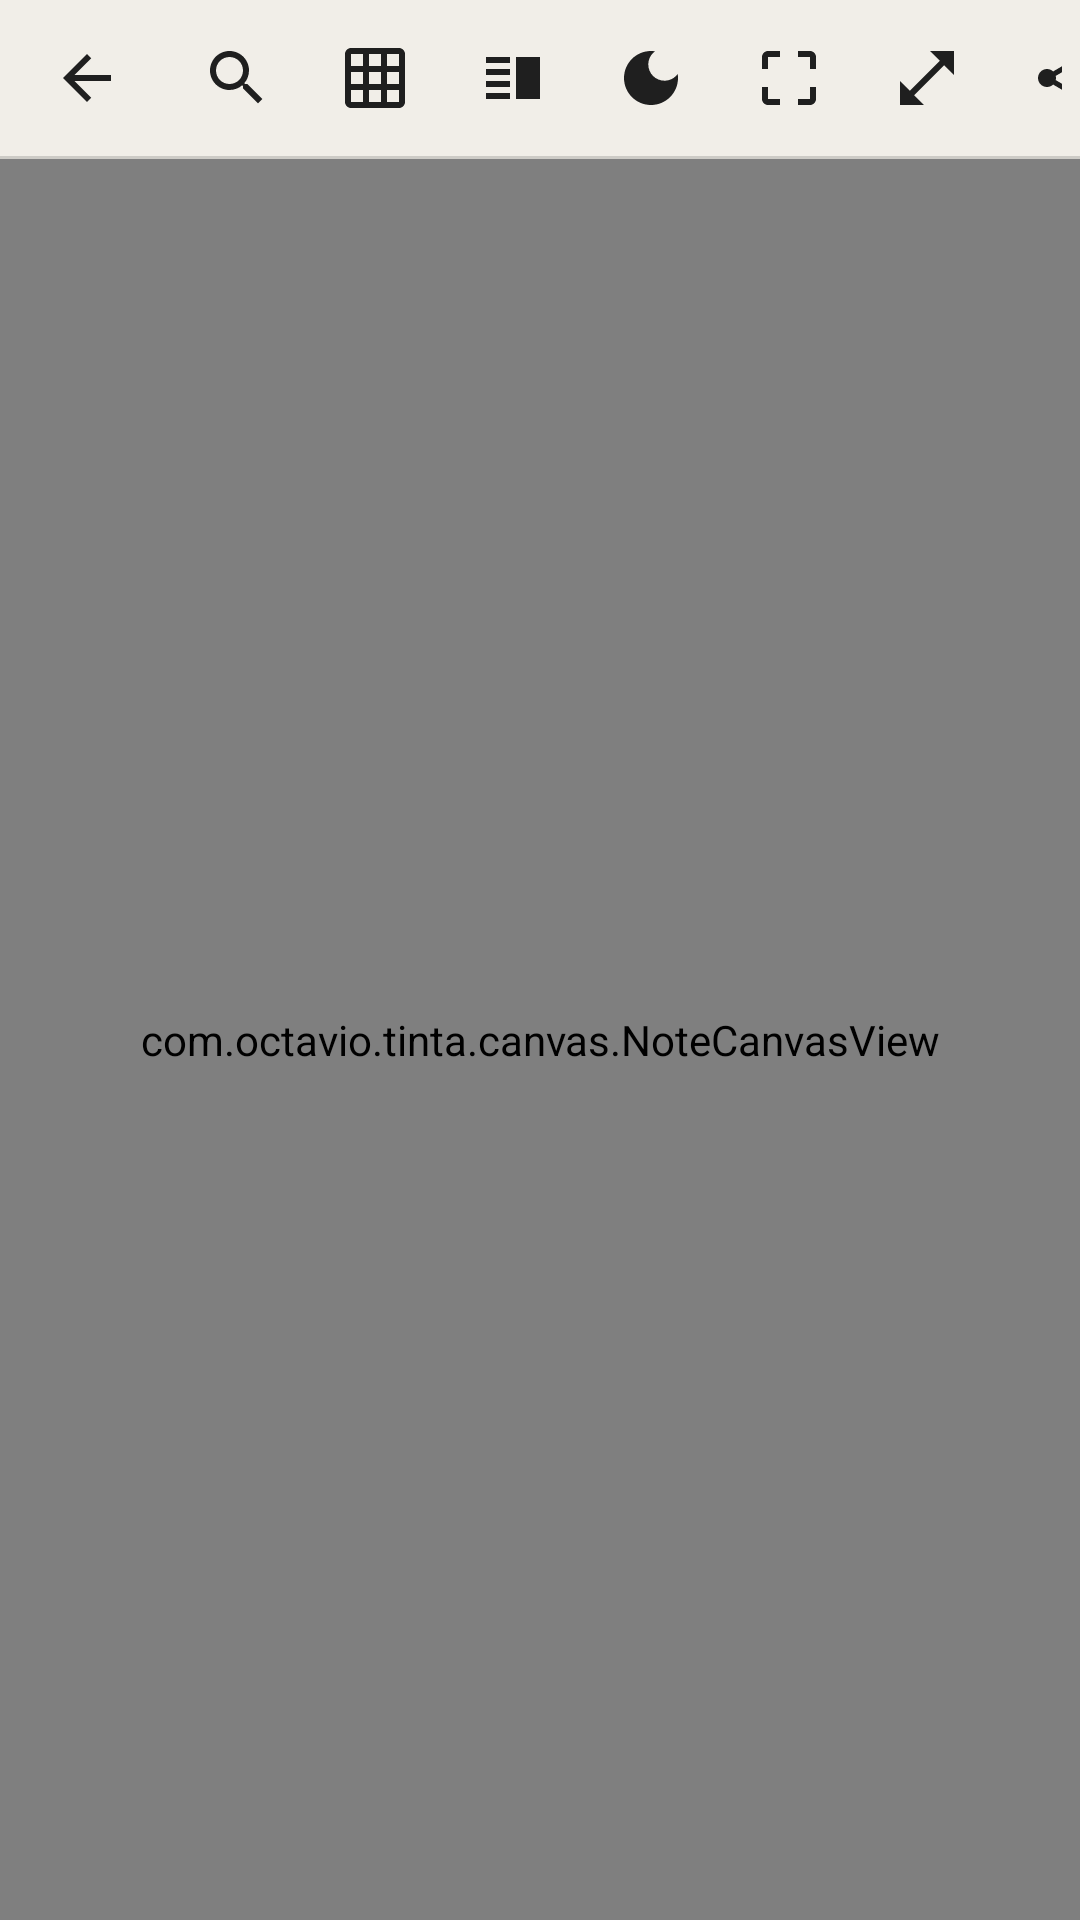

Icon click points for this 1080 x 1920 phone screenshot, format (x=x, y=y):
Abrir otra nota al lado: (x=513, y=78)
Buscar en lo escrito: (x=236, y=77)
Modo oscuro: (x=651, y=78)
Volver: (x=87, y=78)
